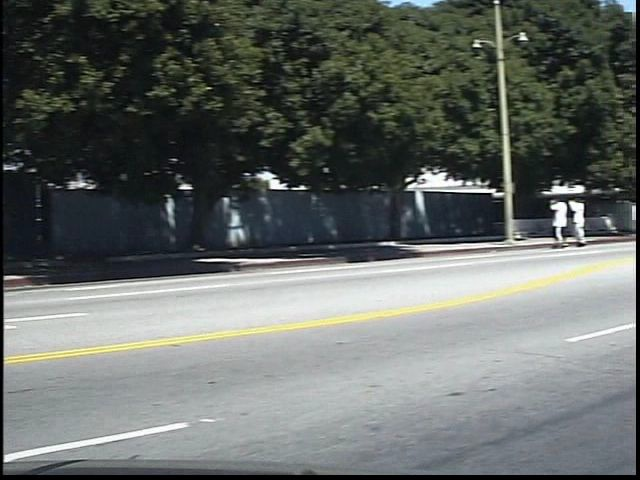person: (562, 190, 588, 252), (582, 192, 608, 251)
